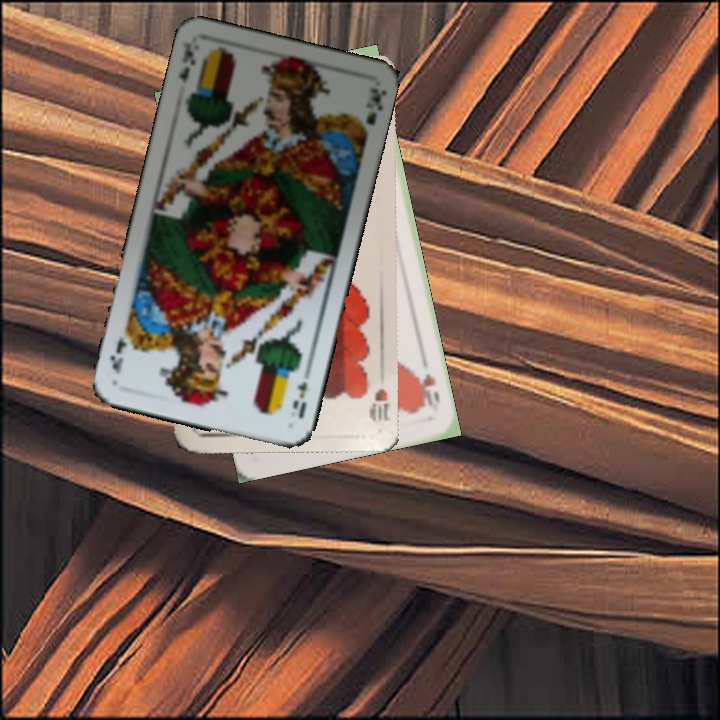EK: (175, 38, 198, 87), (288, 377, 310, 421)
H10: (365, 384, 392, 424)
HO: (413, 369, 443, 409)
